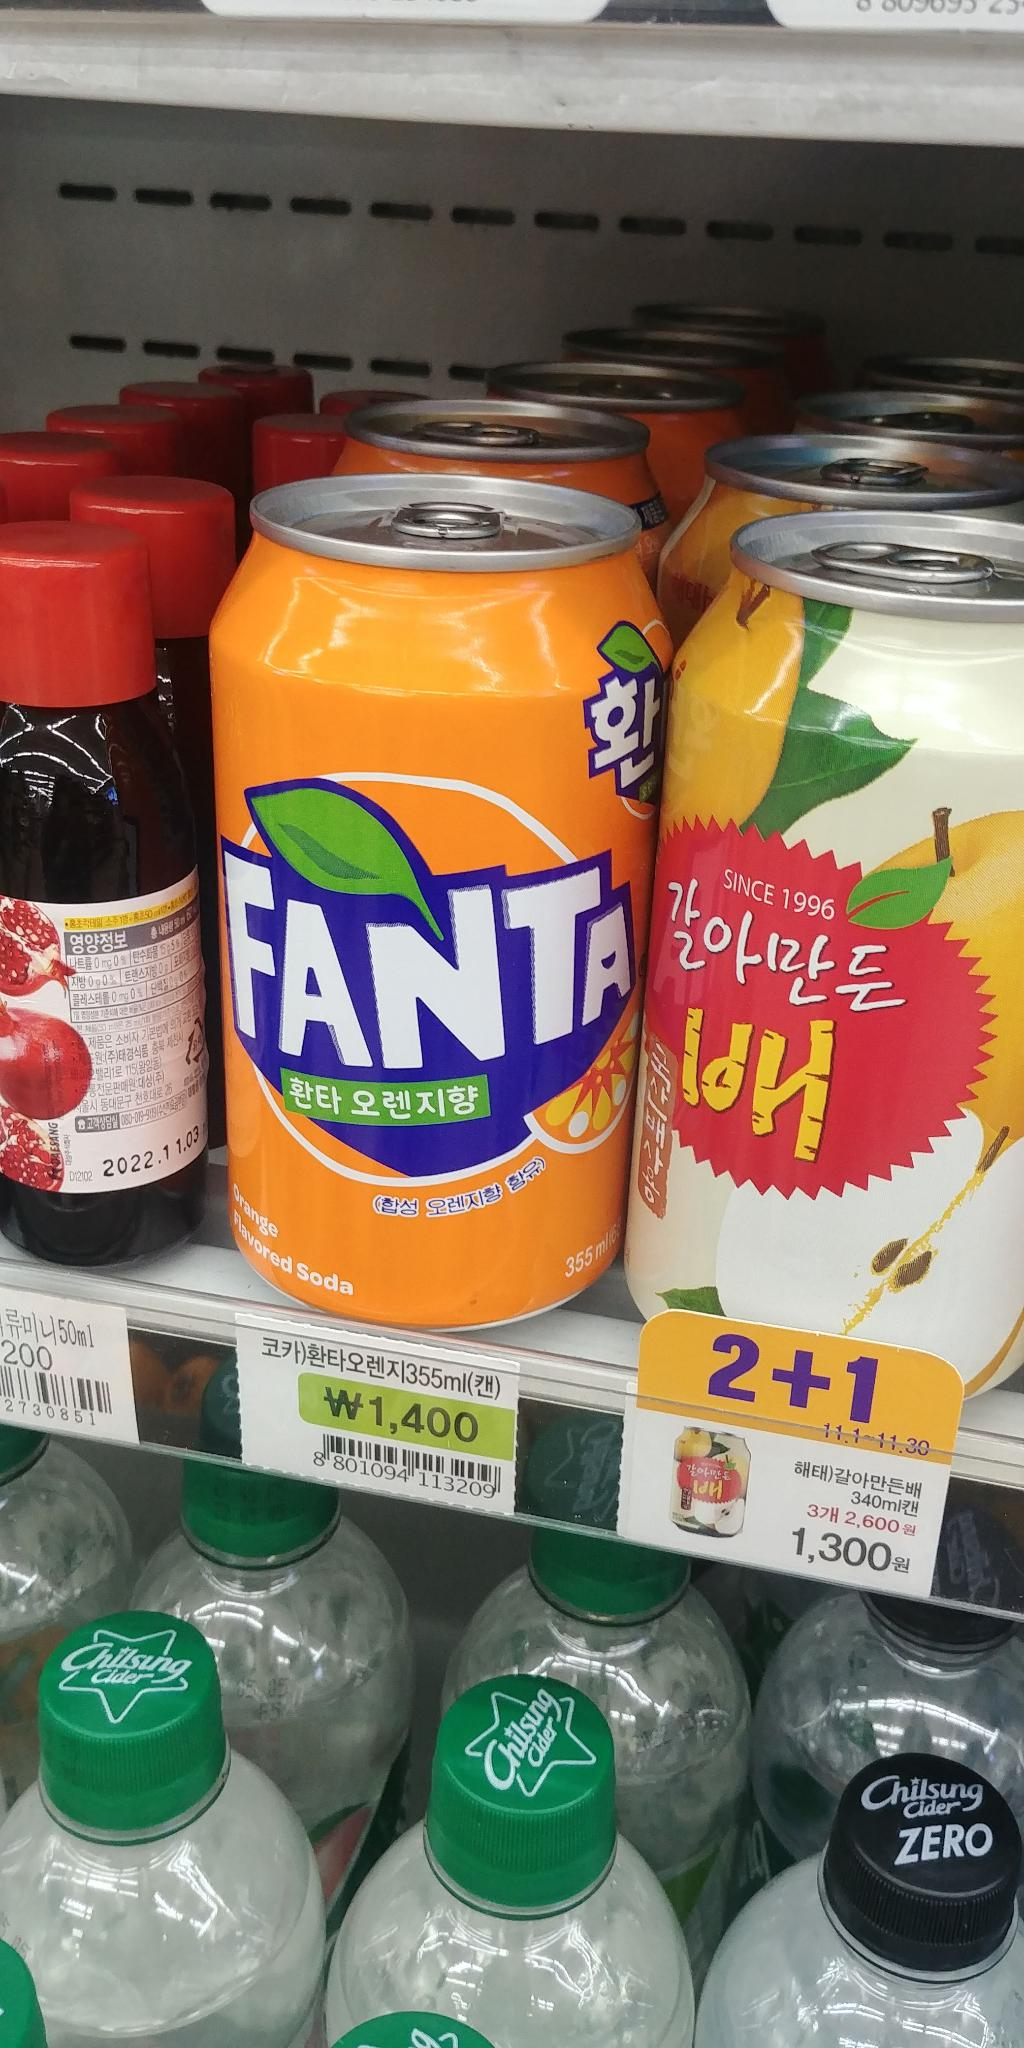fanta_orange: (225, 469, 667, 1328)
